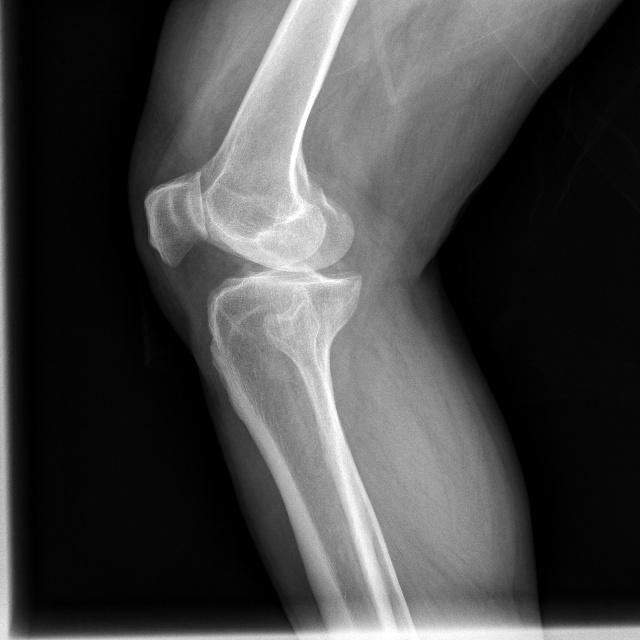Knee: (140, 166, 363, 354)
